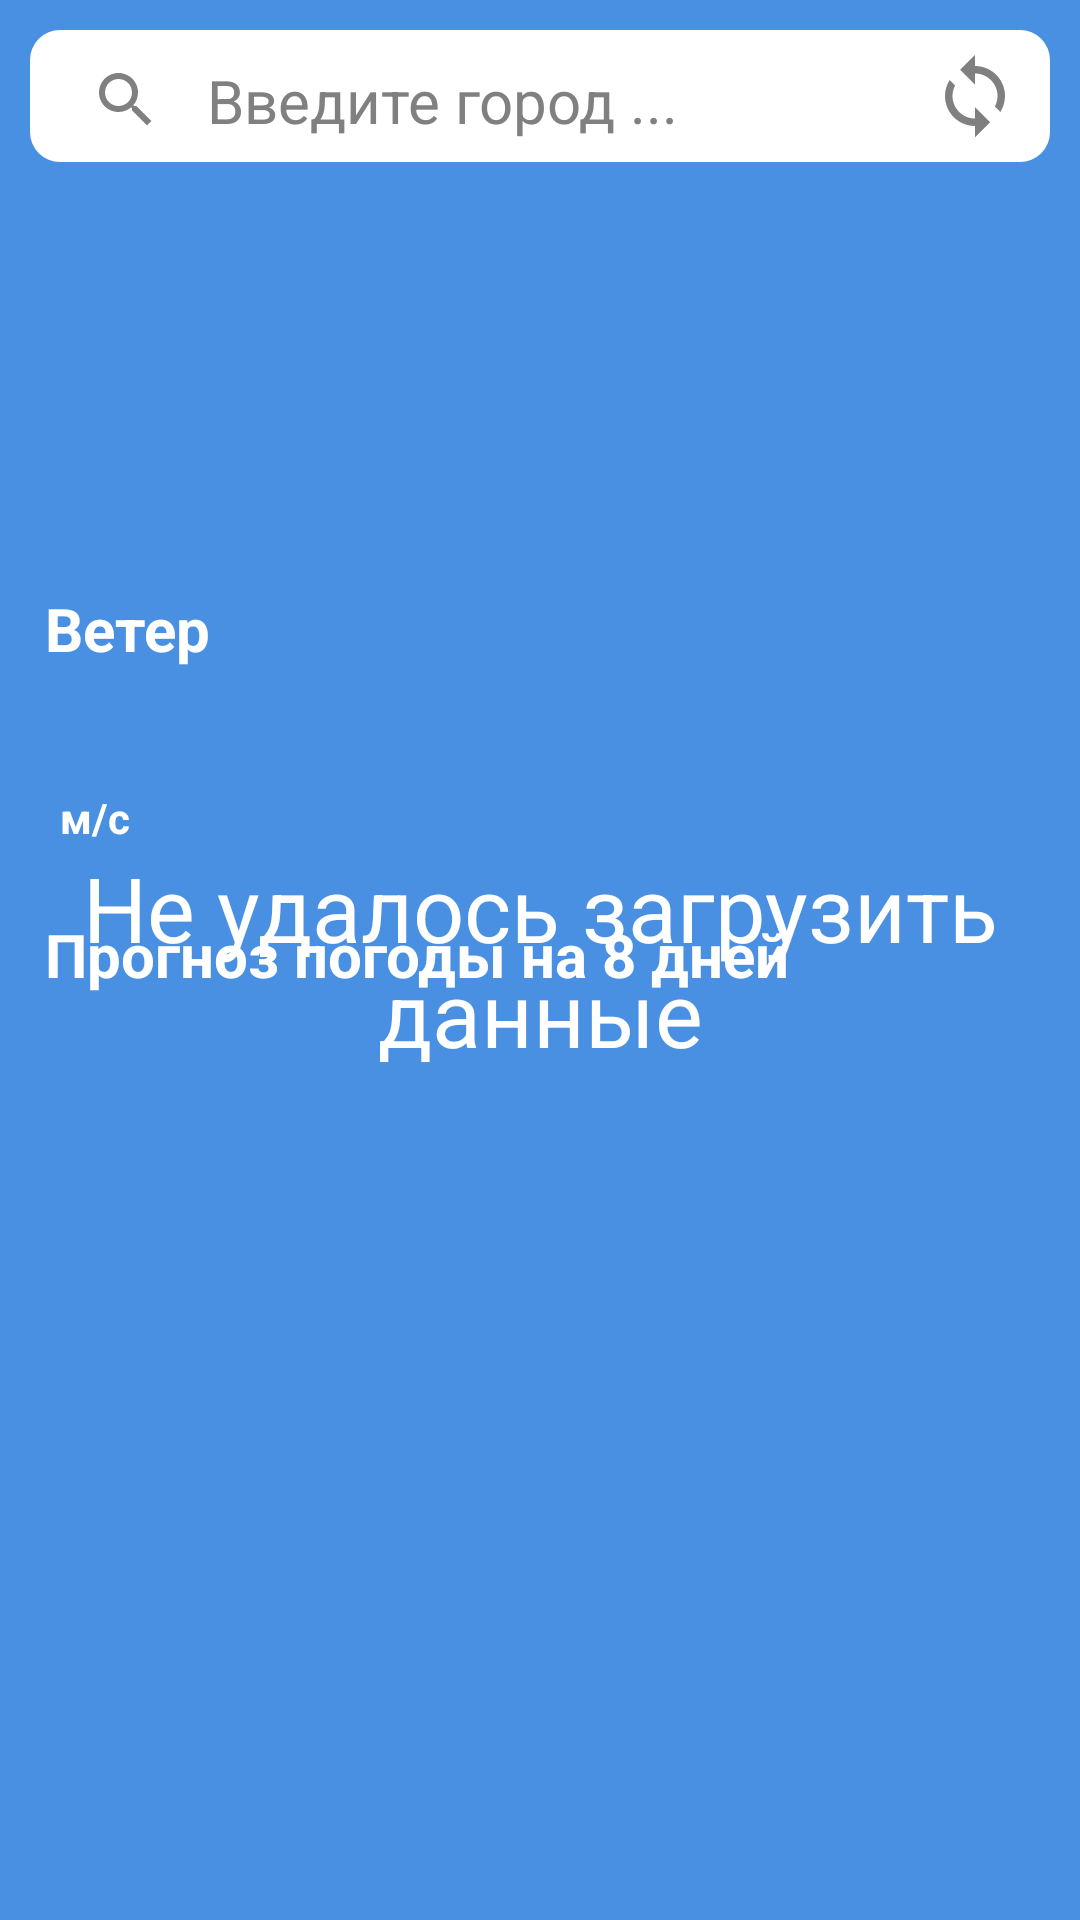

Where icons sit on this 1080px×1920px app screen, as (x1, y1, x2, y2):
reload: (945, 55, 1005, 137)
